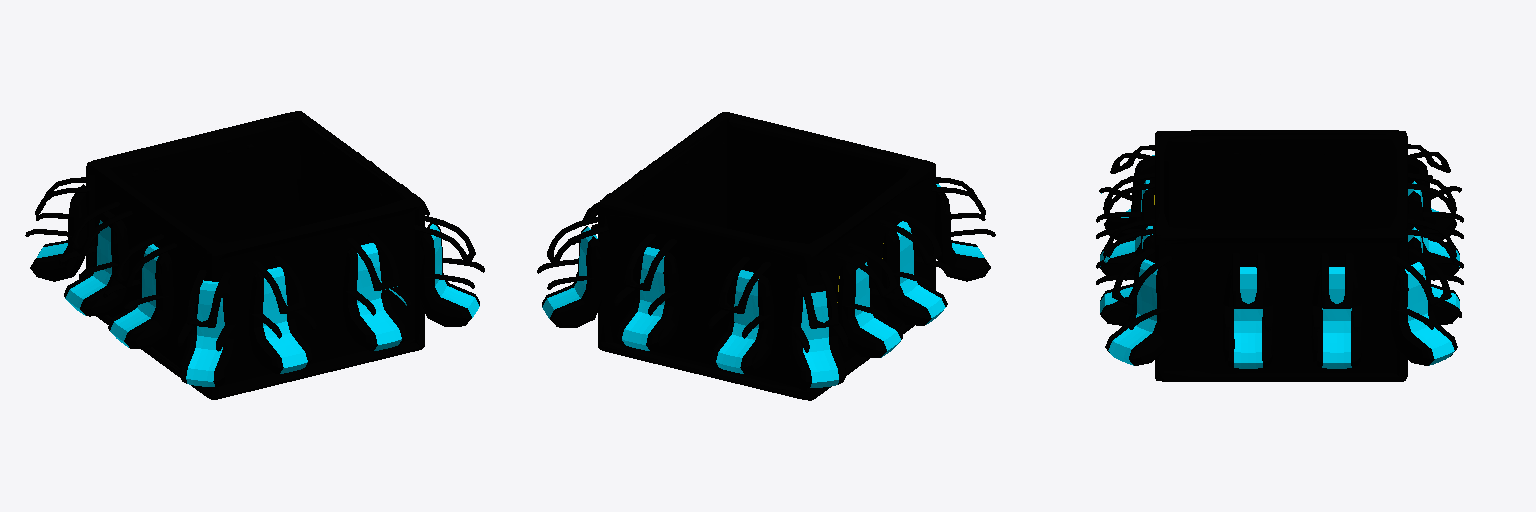
File: cabinestowerfall.obj
3 views of the same model, side by side, from view 1: azimuth 30°, elevation 25°; view 2: azimuth 150°, elevation 25°; view 3: azimuth 270°, elevation 25° (orthographic).
Parts seen in each view (by area): view 1: Cube.002_Cube.032; view 2: Cube.002_Cube.032; view 3: Cube.002_Cube.032.
Boxes of the visible parts, x1=… form: Cube.002_Cube.032: x1=25, y1=111, x2=484, y2=399; Cube.002_Cube.032: x1=537, y1=112, x2=995, y2=400; Cube.002_Cube.032: x1=1096, y1=130, x2=1463, y2=381.
Size of the model in its own units: 2.55 by 1.15 by 2.57.